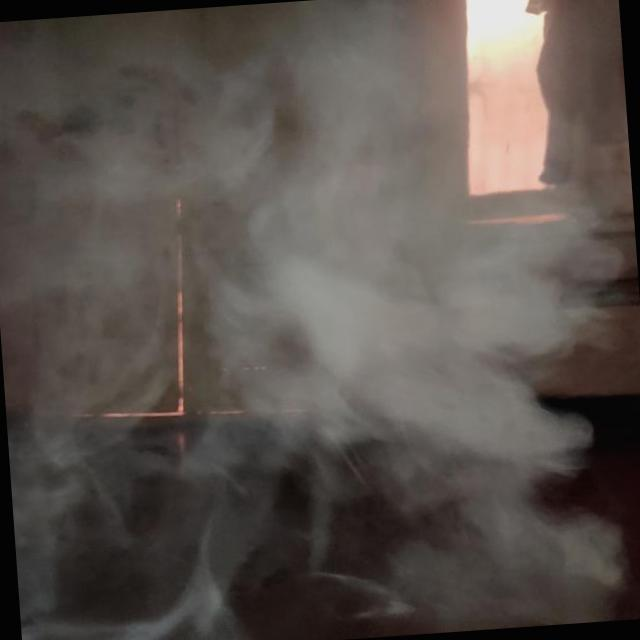smoke: (98, 37, 593, 566)
